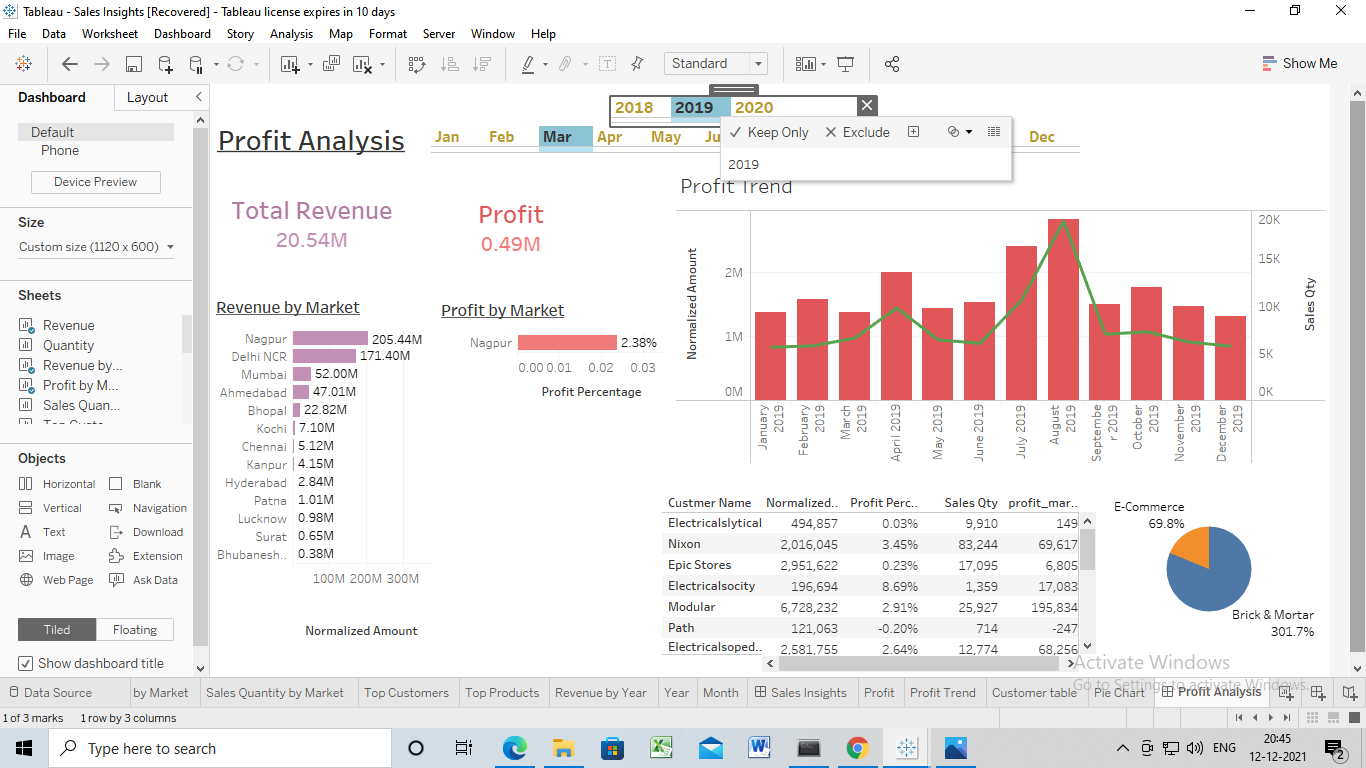

Layout of this report page (visuals, bound fields, positions):
{"tool":"tableau","page":{"name":"Profit Analysis","canvas":[1120,600],"ordinal":0},"visuals":[{"type":"title","box":[5,13,195,84]},{"type":"worksheet","title":"Year","mark":"Automatic","cols":["cy_date"],"box":[401.2,13,245.4,29]},{"type":"worksheet","title":"Month","mark":"Automatic","cols":["cy_date"],"box":[220.9,42,664.9,29]},{"type":"legend","title":"Profit Trend","param":"[federated.1wrotgx1kiv2ew12km91h0g3ou01].[none:markets_name:nk]","box":[970,62,140,58]},{"type":"worksheet","title":"Profit Trend","mark":"Bar","rows":["Calculation_901001447928795136","sales_qty"],"cols":["cy_date"],"box":[466,83,650,298]},{"type":"worksheet","title":"Revenue","mark":"Automatic","box":[12.2,108,184.3,61]},{"type":"worksheet","title":"Profit","mark":"Automatic","box":[261,112,102,68]},{"type":"worksheet","title":"Revenue by Market","mark":"Automatic","rows":["markets_name"],"cols":["Calculation_901001447928795136"],"box":[2,208,219.9,381]},{"type":"worksheet","title":"Profit by Market","mark":"Automatic","rows":["markets_name"],"cols":["Calculation_541839377881427968"],"box":[227,211,229,365]},{"type":"worksheet","title":"Pie Chart","mark":"Pie","box":[893,400,212,170]},{"type":"worksheet","title":"Customer table","mark":"Automatic","rows":["custmer_name"],"box":[452,408,434,180]}]}

Visuals, with their boxes on the page's 1120x600 design canvas (x1, y1, x2, y2). These are canvas units, not pixel positions in the 1366x768 screenshot, which may show the page scaled, cropped or inside an application window:
title: [left=5, top=13, right=200, bottom=97]
"Year" worksheet: [left=401, top=13, right=647, bottom=42]
"Month" worksheet: [left=221, top=42, right=886, bottom=71]
"Profit Trend" legend: [left=970, top=62, right=1110, bottom=120]
"Profit Trend" worksheet (Bar marks): [left=466, top=83, right=1116, bottom=381]
"Revenue" worksheet: [left=12, top=108, right=196, bottom=169]
"Profit" worksheet: [left=261, top=112, right=363, bottom=180]
"Revenue by Market" worksheet: [left=2, top=208, right=222, bottom=589]
"Profit by Market" worksheet: [left=227, top=211, right=456, bottom=576]
"Pie Chart" worksheet (Pie marks): [left=893, top=400, right=1105, bottom=570]
"Customer table" worksheet: [left=452, top=408, right=886, bottom=588]
